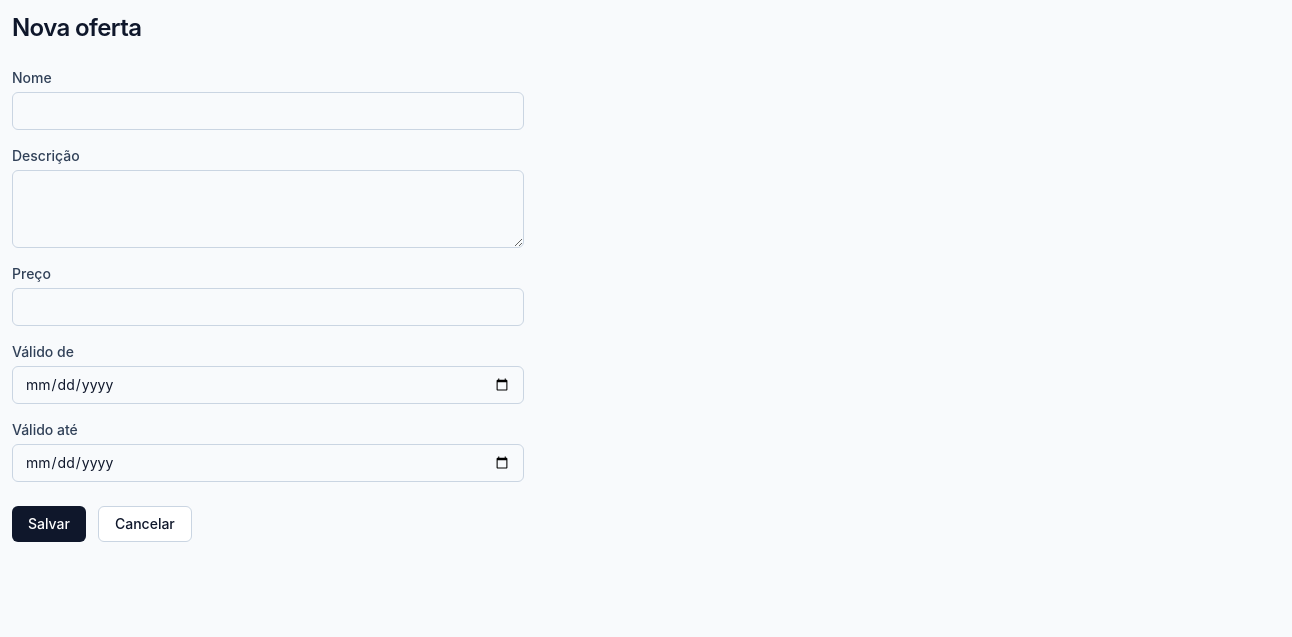
Test case: OfferFormPage › negative price shows validation error and does not submit
Type "Pacote Paris" into the field labelled "Nome" at (268, 111), box [12,92,524,130]
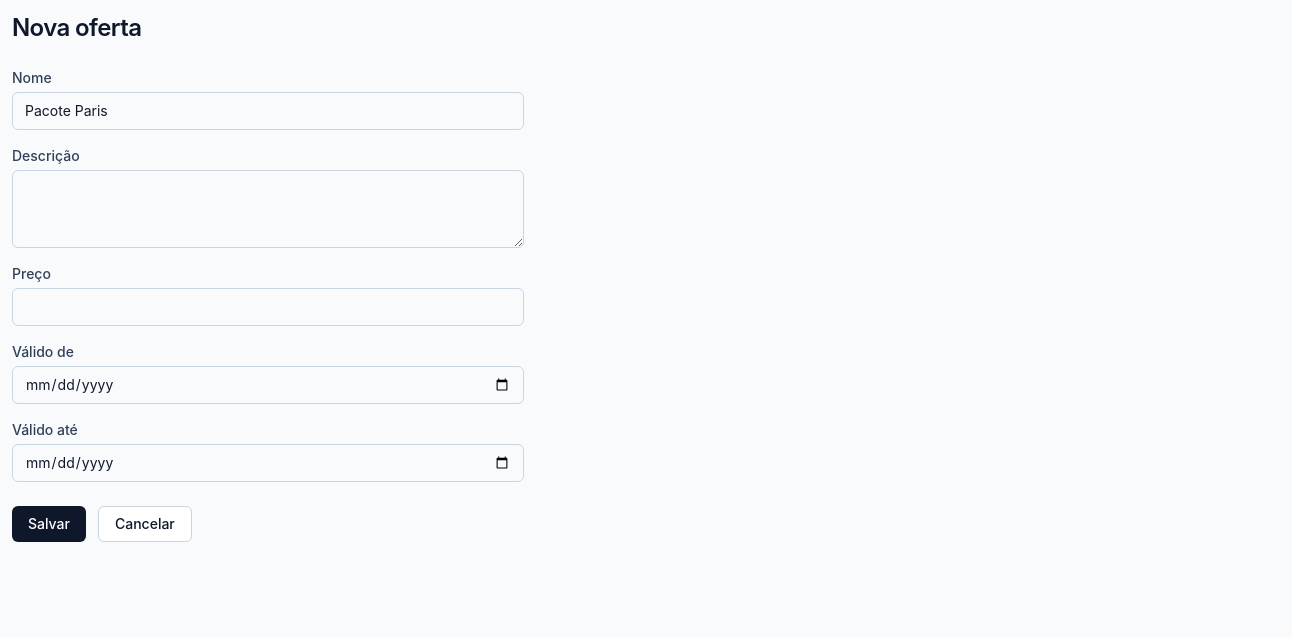
Type "-10" into the number field labelled "Preço" at (268, 307), box [12,288,524,326]
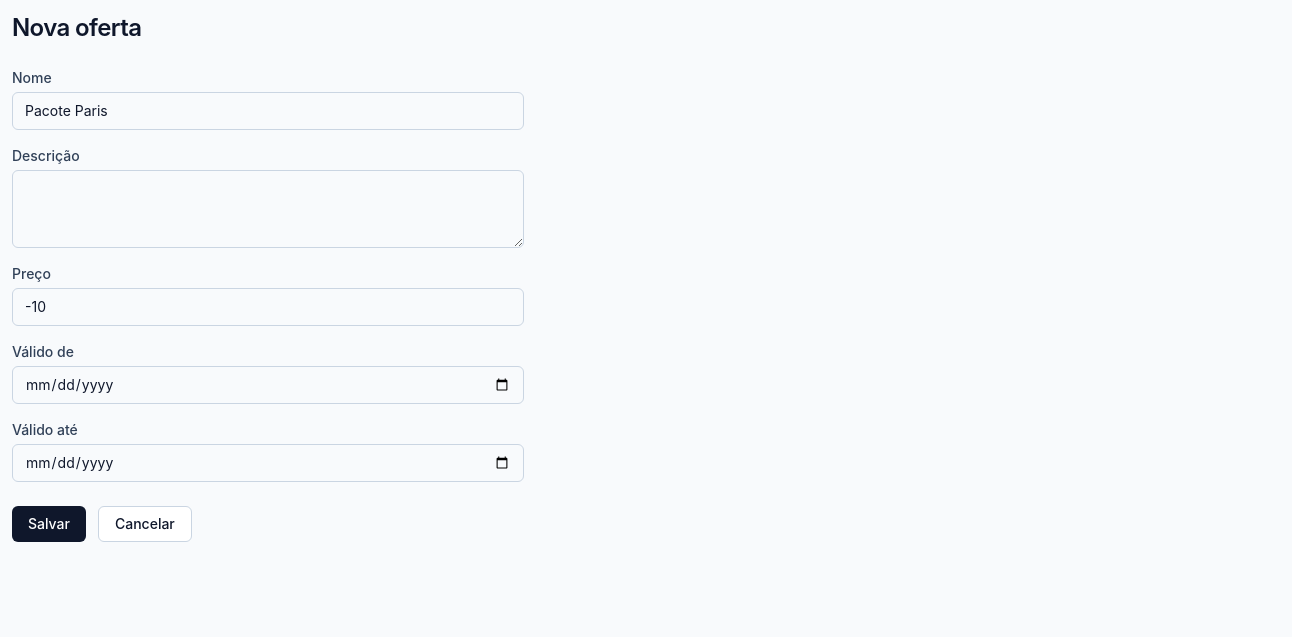
Click the button "Salvar" at (49, 524), box [12,506,86,542]
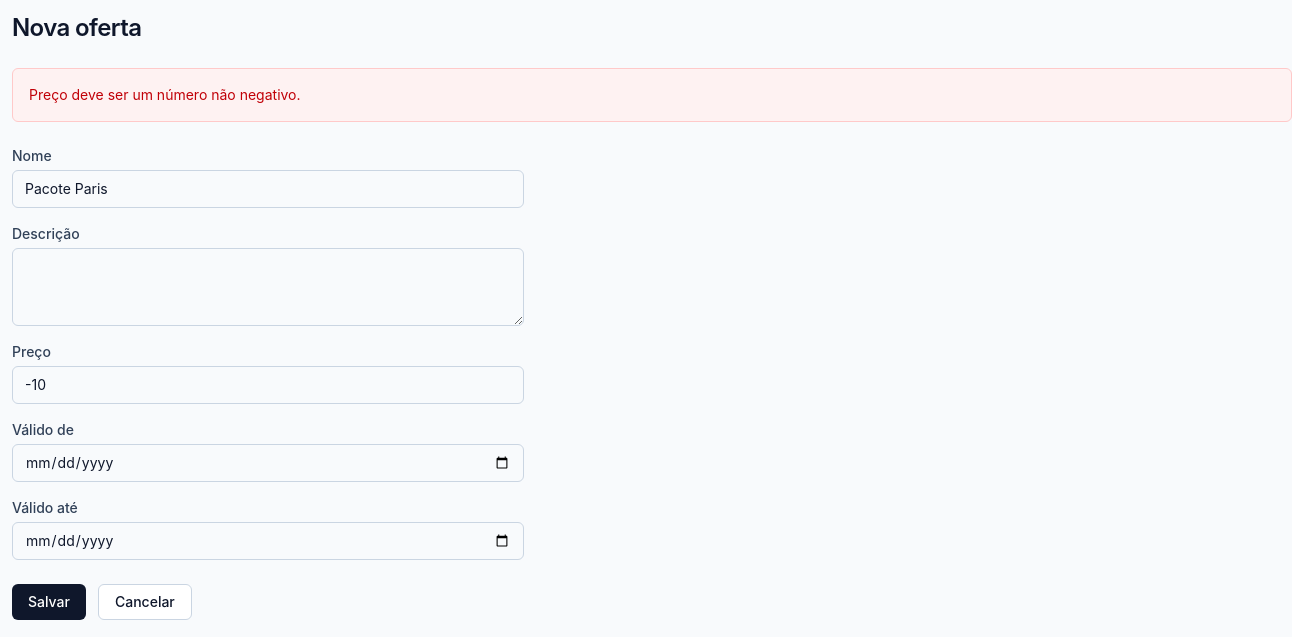
Expected: the text "Preço deve ser um número não negativo." is shown, [12,68,1291,122]
